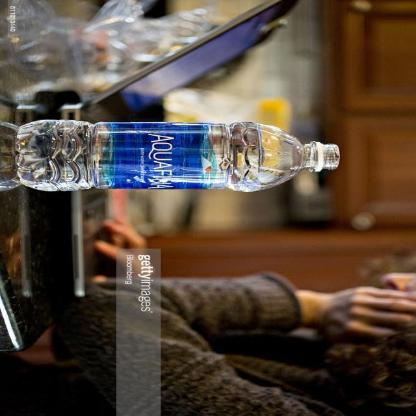Plastic Bottle: (16, 121, 340, 192)
